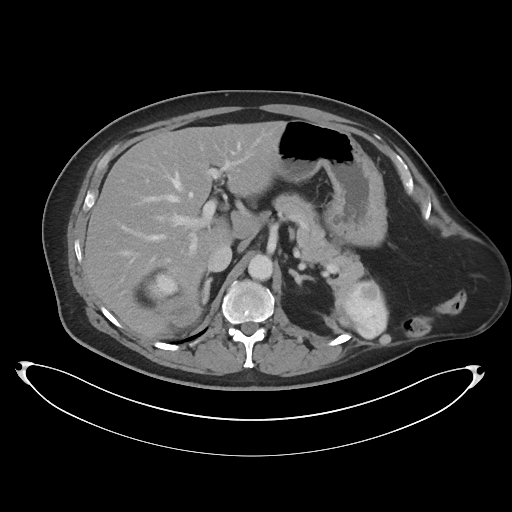Lesion: (357, 281, 379, 304), (376, 330, 393, 348)
